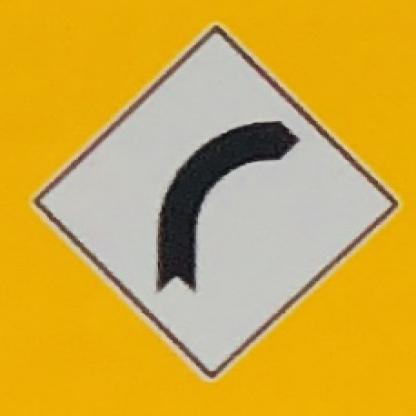Right bend: (4, 5, 404, 403)
